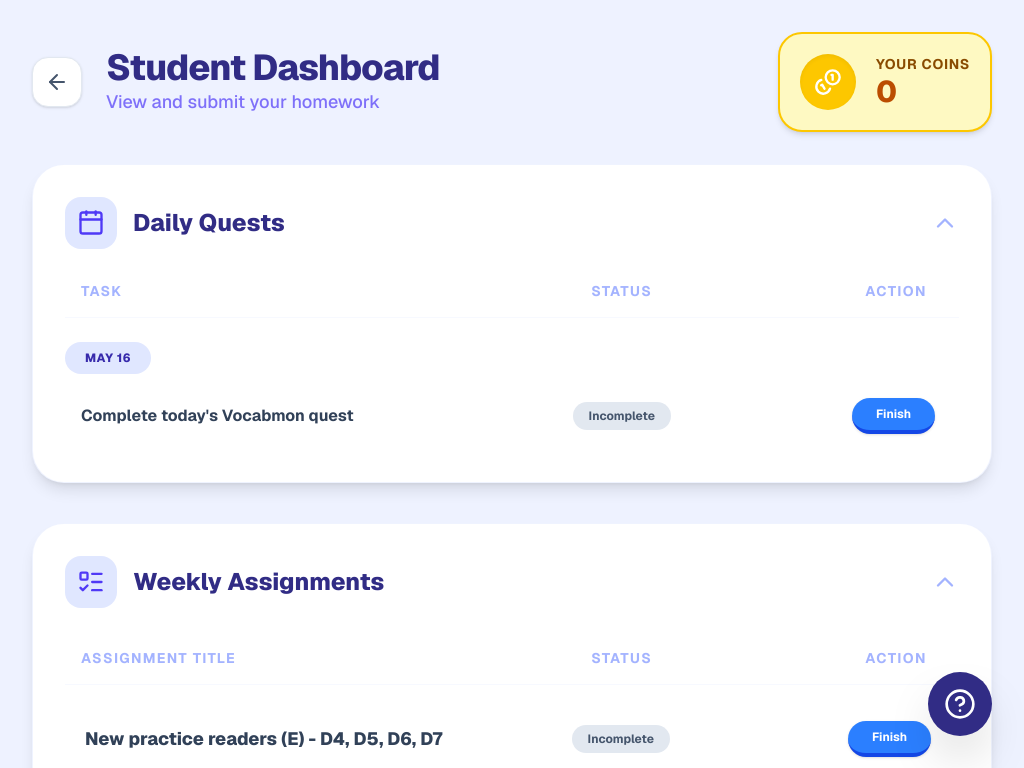
StudentDashboardPage › toggles collapsible sections
The width and height of the screenshot is (1024, 768).
Expected: the text "Complete today's Vocabmon quest" is shown, [81, 405, 354, 426]
// Collapse Daily
What coordinates should you click on to do the following:
click the heading "Daily Quests"
I would click on:
 (209, 223)
Its box is [133, 207, 285, 239].
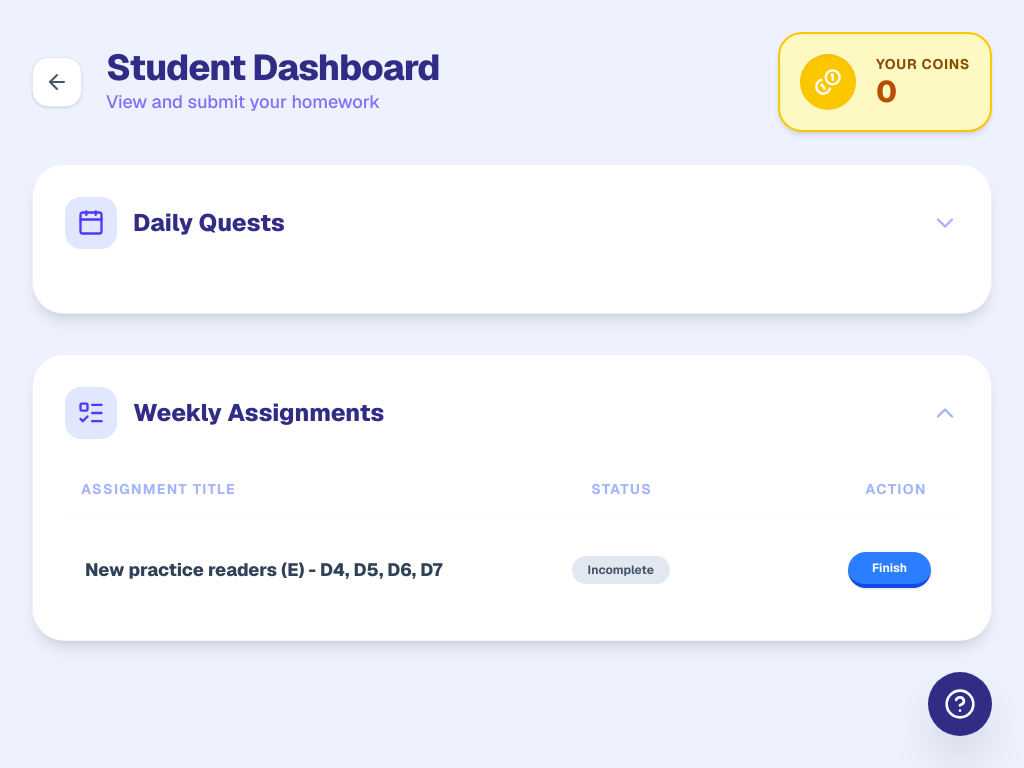
Expected: the text "New practice readers (E) - D4, D5, D6, D7" is shown, [85, 555, 504, 585]
Expected: the text "Complete today's Vocabmon quest" is gone
// Collapse Weekly
What coordinates should you click on to do the following:
click the heading "Weekly Assignments"
I would click on:
 (259, 413)
Its box is [133, 397, 384, 429].
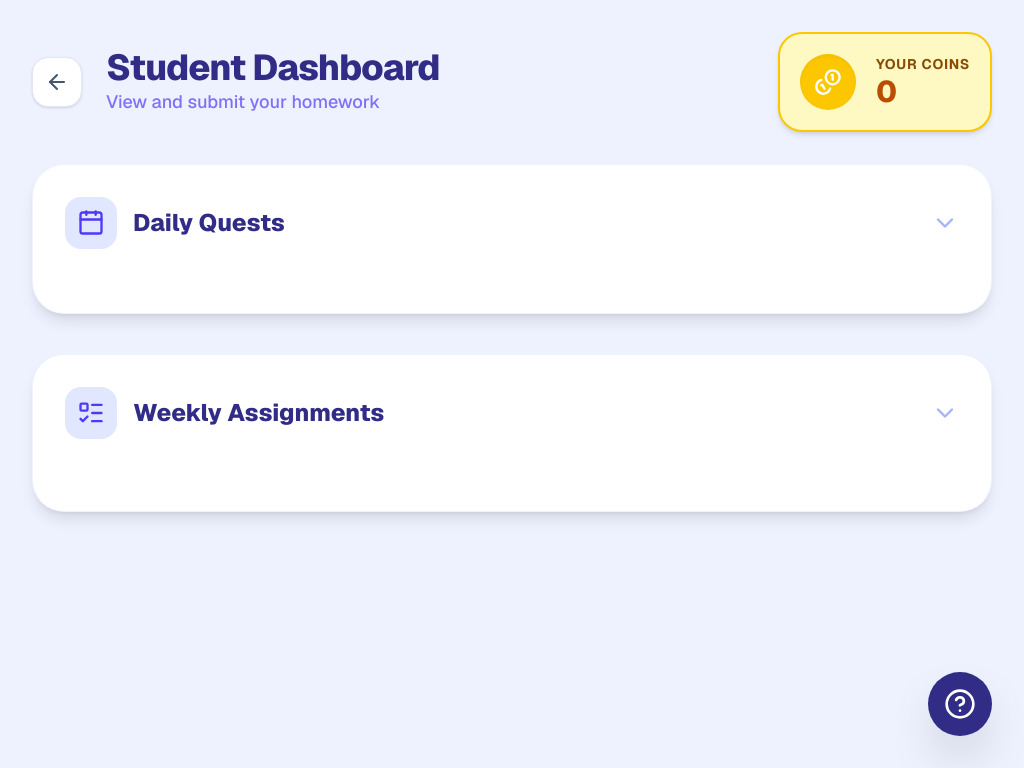
Expected: the text "New practice readers (E) - D4, D5, D6, D7" is gone
